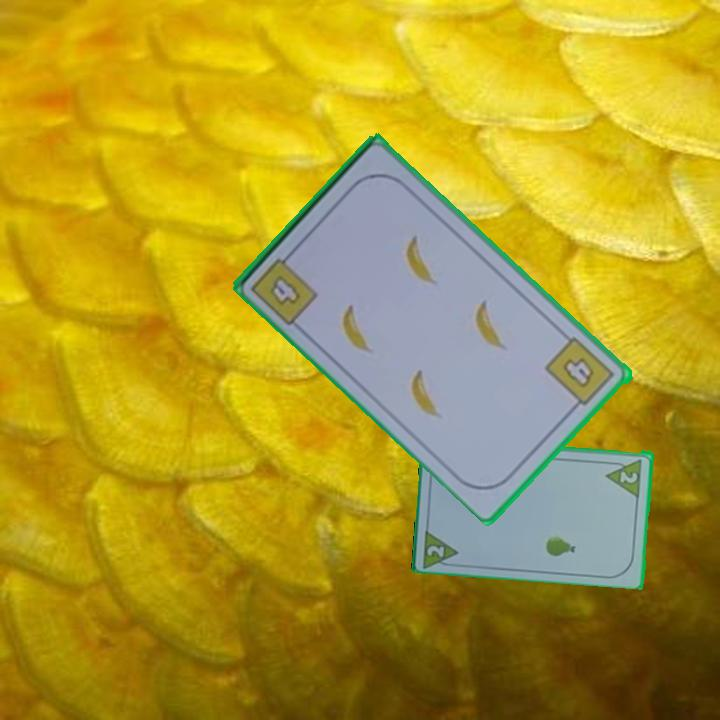2p: (419, 524, 462, 569), (617, 467, 641, 486)
4b: (542, 333, 618, 414), (266, 271, 304, 309)
